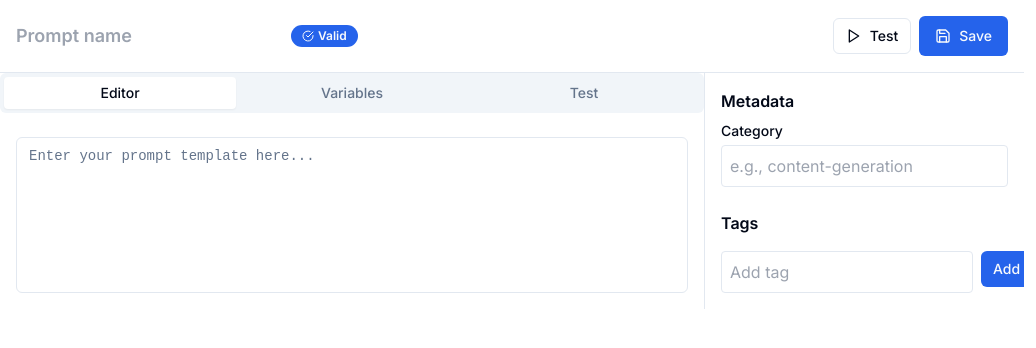
Scenario: PromptEditor › allows adding and removing tags
Type "new-tag" into the field with placeholder "Add tag".
click(847, 272); type("new-tag")  # box left=721, top=251, right=973, bottom=293
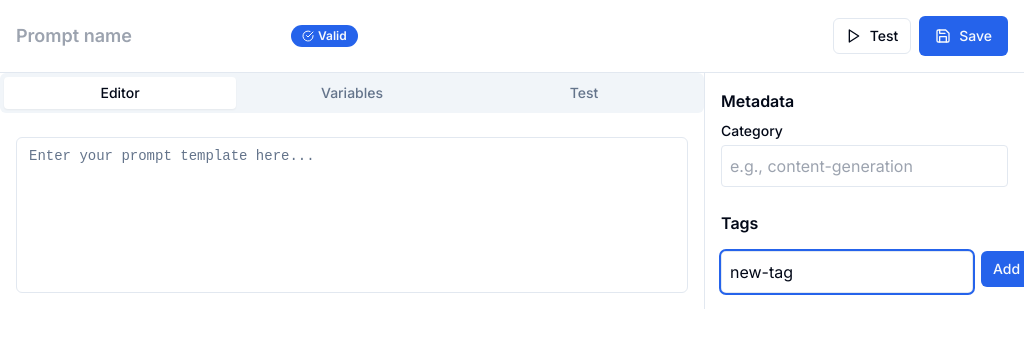
Click the button "Add".
click(1002, 269)  # box left=981, top=251, right=1024, bottom=287
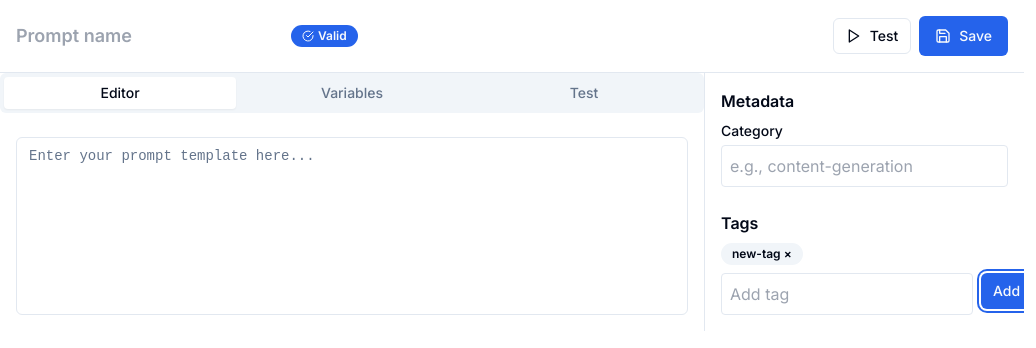
Check: the text "new-tag ×" is shown
Remove tag
Click the text "new-tag ×".
click(762, 254)  # box left=721, top=243, right=803, bottom=265
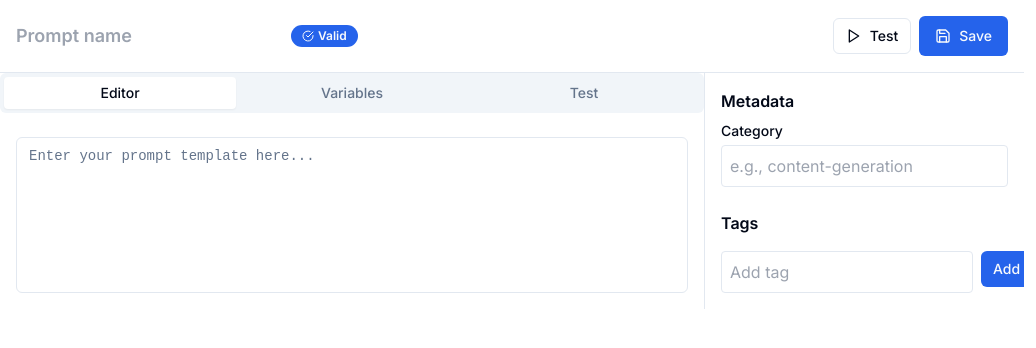
Check: the text "new-tag ×" is gone
